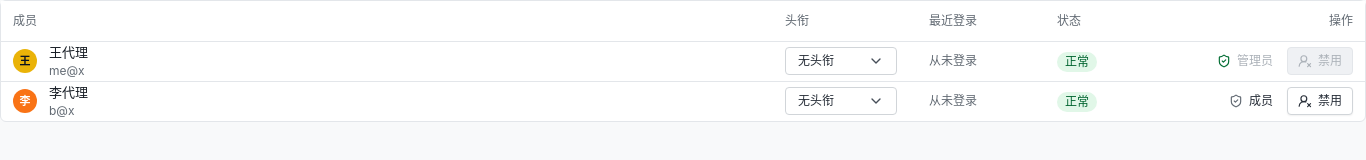
Scenario: 批52 高权限动作两阶确认 › 授予超管/禁用：点击先 arm 不写库，确认才 onUpdate；取消复位
Click the button with test id "member-toggle-super" at {"x": 1251, "y": 101}, box [1219,87,1283,115]
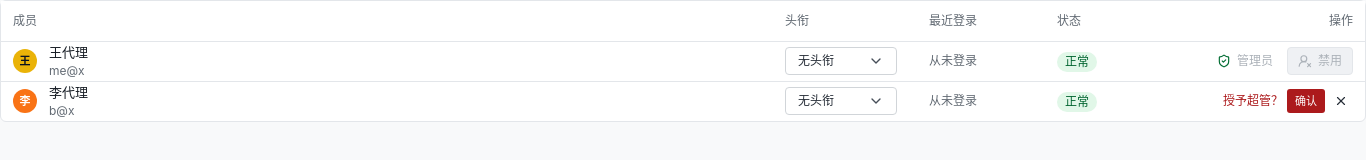
Now the button with test id "member-confirm-u2" is shown
Click the button with test id "member-confirm-u2" at {"x": 1306, "y": 101}, box [1287,89,1325,113]
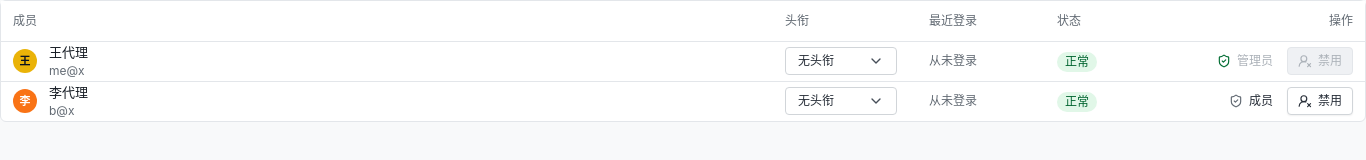
Now the button with test id "member-toggle-active" is shown
Click the button with test id "member-toggle-active" at {"x": 1320, "y": 101}, box [1287,87,1353,115]
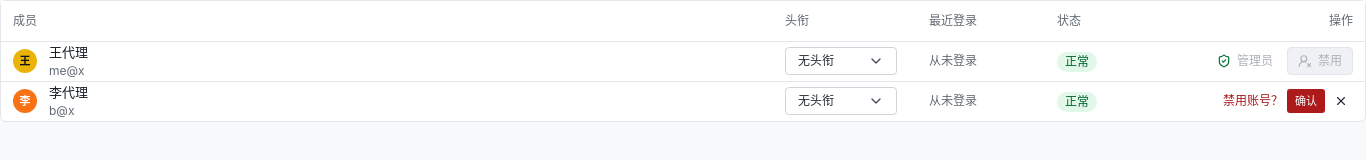
Now the button with test id "member-cancel-u2" is shown
Click the button with test id "member-cancel-u2" at {"x": 1341, "y": 101}, box [1329,89,1353,113]
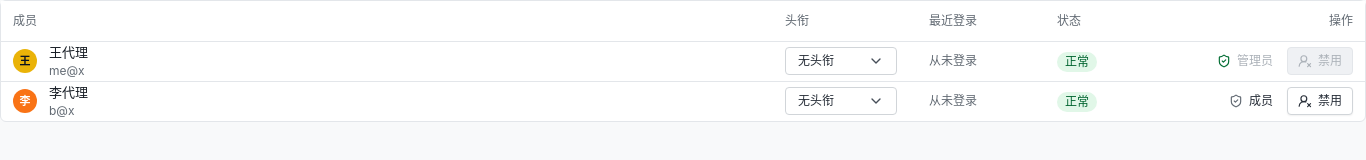
Now the button with test id "member-toggle-super" is shown, box [1219,87,1283,115]
